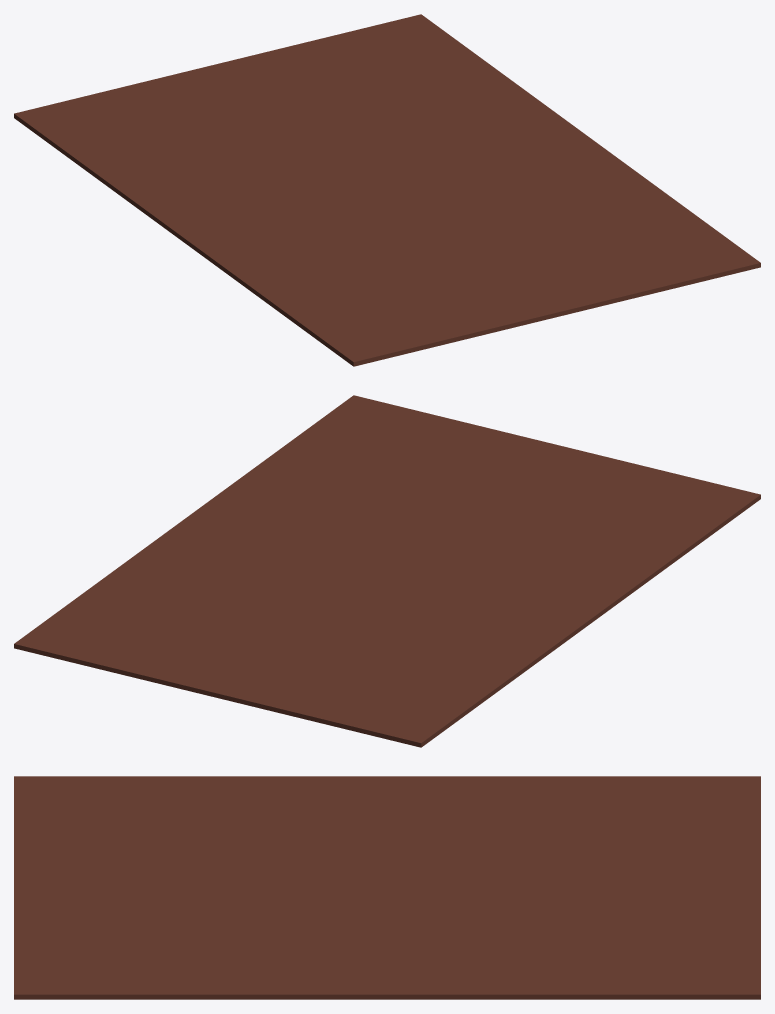
File: Enviro_bedroomfloor_001.fbx
3 views of the same model, one above another, from view 1: azimuth 30°, elevation 25°; view 2: azimuth 150°, elevation 25°; view 3: azimuth 270°, elevation 25° (orthographic). The views are drawn at different scales.
Visible parts, largest first — view 1: Bedroom_Floor; view 2: Bedroom_Floor; view 3: Bedroom_Floor.
Boxes of the visible parts, box(x1,y1,x2,y2) form: Bedroom_Floor: box(14, 14, 760, 366); Bedroom_Floor: box(14, 395, 760, 747); Bedroom_Floor: box(14, 776, 760, 999).
Bounding box in the file's own units: 15257 × 161 × 22043.
